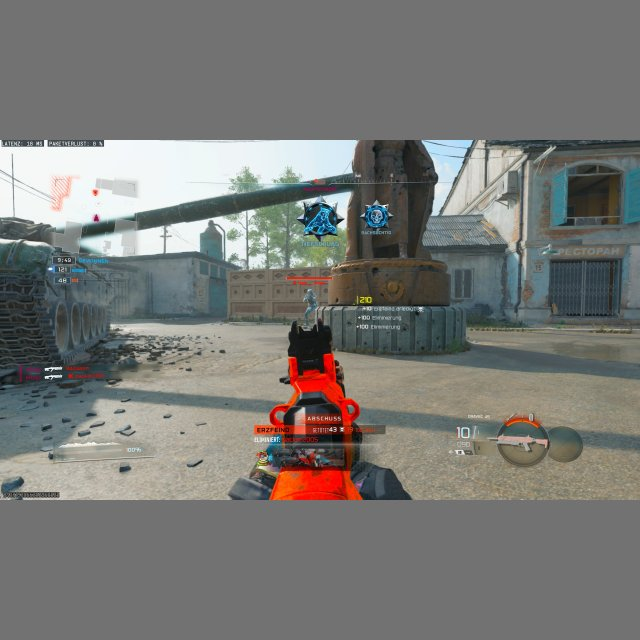head: (305, 288, 313, 294)
player: (302, 287, 317, 322)
